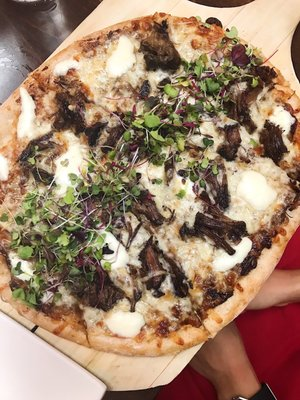curry: (0, 0, 298, 331)
sandwich: (0, 6, 300, 375)
